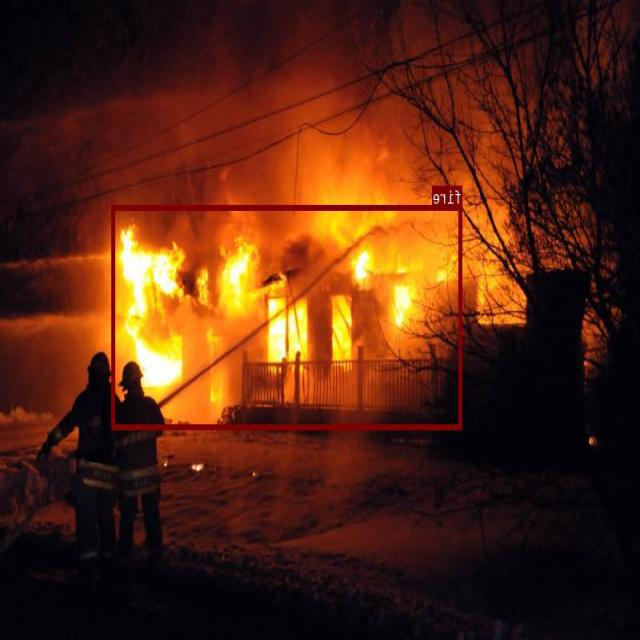fire: (112, 204, 463, 428)
